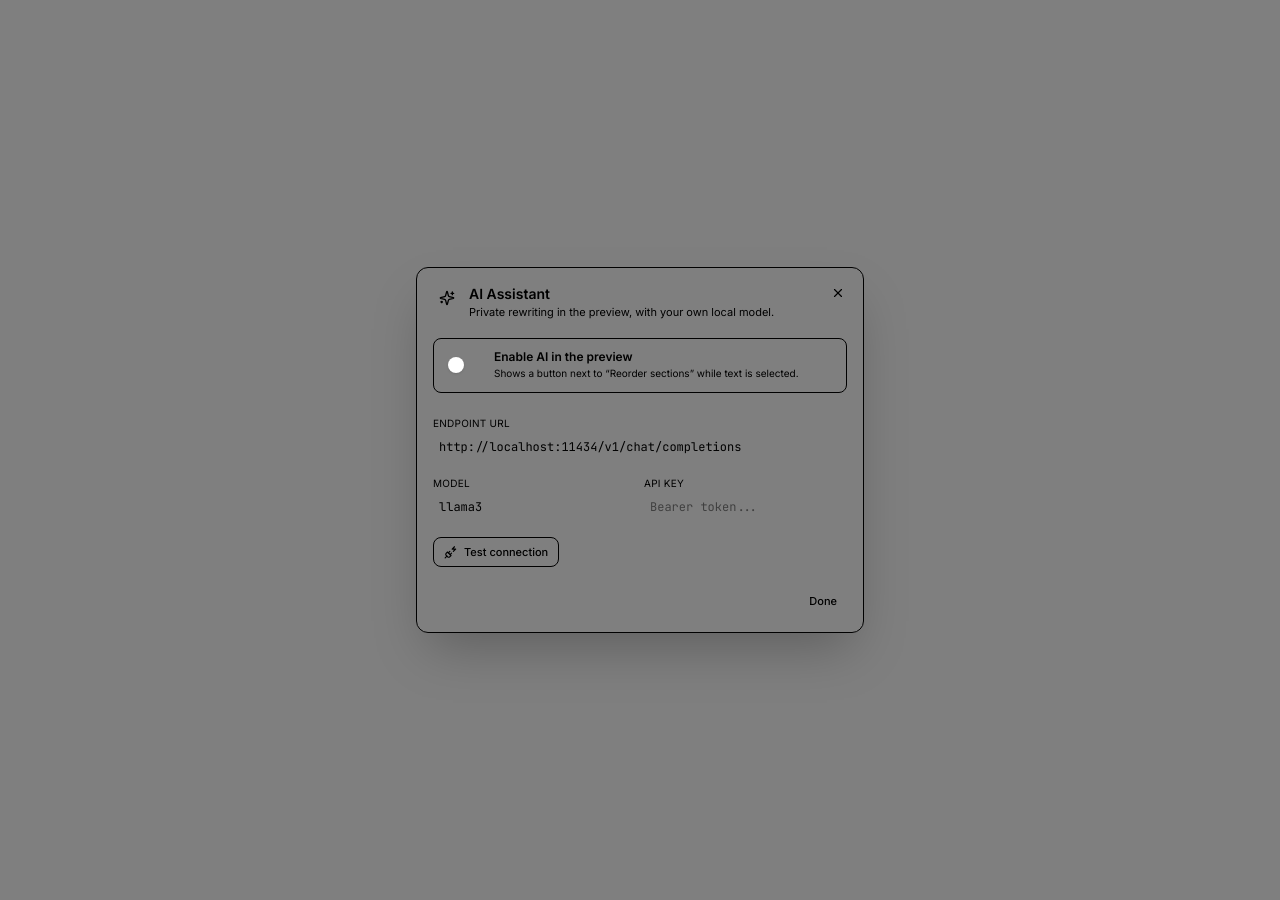
Test: AIAssistantModal › checks the connection against the configured endpoint
Click the button "Test connection" at point(496, 552), box [433, 537, 559, 567]
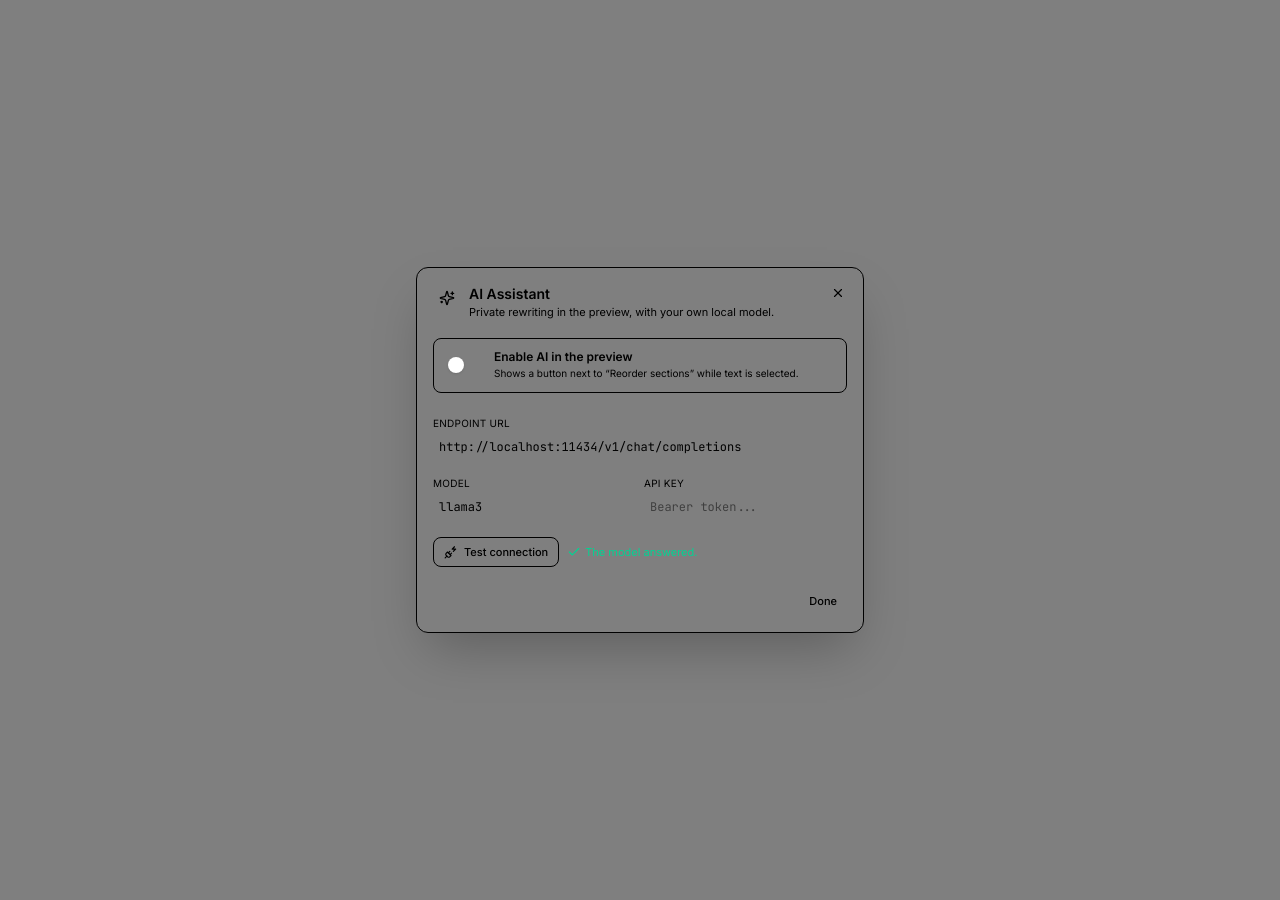
Now the text "The model answered." is shown, box [567, 544, 697, 560]
